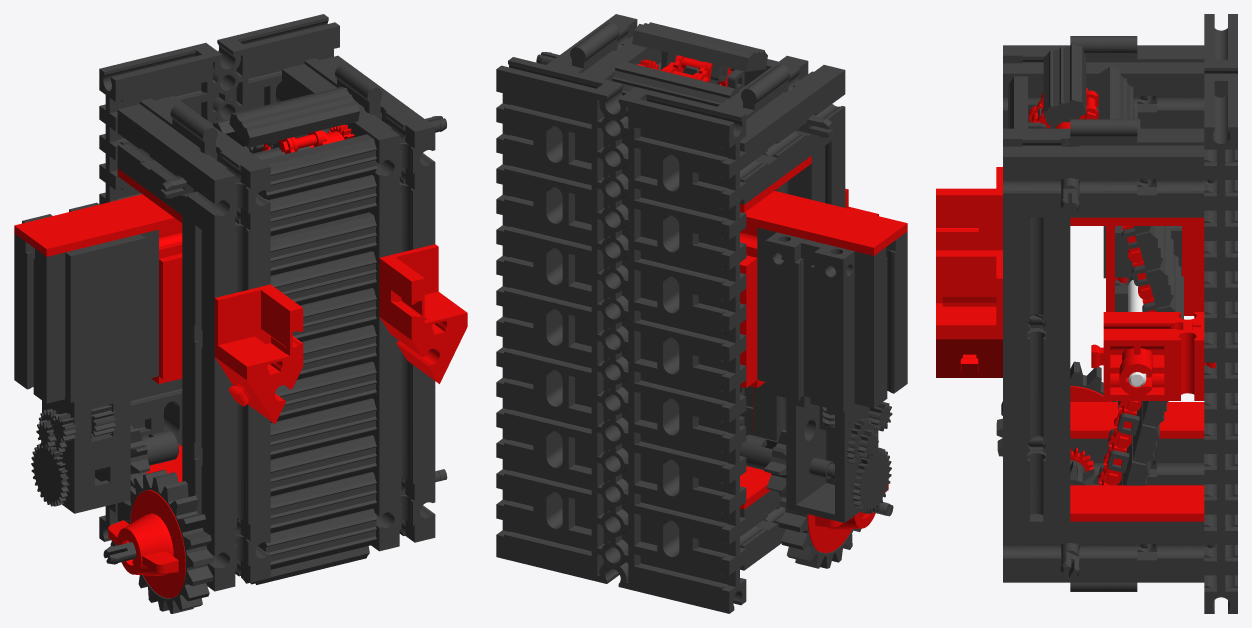
File: dopravnik1.obj
The picture shows the model from 3 angles, left to right: view 1: azimuth 30°, elevation 25°; view 2: azimuth 150°, elevation 25°; view 3: azimuth 270°, elevation 25°; orthographic projection. The views are drawn at different scales.
Parts seen in each view (by area): view 1: obj3, obj5, obj6, obj8, obj1, obj2, obj7, obj4; view 2: obj6, obj1, obj3, obj5, obj7, obj8, obj4, obj2; view 3: obj3, obj5, obj2, obj6, obj1, obj7, obj4, obj9, obj8, obj10.
Part boxes in pixels (left/top/right/bottom): obj3: left=14, top=58, right=446, bottom=551; obj5: left=31, top=96, right=447, bottom=569; obj6: left=99, top=14, right=376, bottom=546; obj8: left=123, top=134, right=376, bottom=613; obj1: left=36, top=17, right=376, bottom=584; obj2: left=126, top=131, right=467, bottom=564; obj7: left=14, top=130, right=328, bottom=482; obj4: left=108, top=124, right=354, bottom=598; obj6: left=496, top=57, right=746, bottom=613; obj1: left=502, top=22, right=893, bottom=605; obj3: left=536, top=14, right=907, bottom=570; obj5: left=612, top=51, right=892, bottom=522; obj7: left=667, top=66, right=907, bottom=509; obj8: left=683, top=60, right=861, bottom=568; obj4: left=637, top=59, right=888, bottom=552; obj2: left=661, top=55, right=878, bottom=517; obj3: left=1003, top=107, right=1215, bottom=582; obj5: left=1003, top=45, right=1204, bottom=579; obj2: left=936, top=90, right=1170, bottom=401; obj6: left=1070, top=14, right=1237, bottom=613; obj1: left=1043, top=28, right=1234, bottom=610; obj7: left=1029, top=93, right=1204, bottom=471; obj4: left=1070, top=87, right=1215, bottom=521; obj9: left=1070, top=217, right=1204, bottom=485; obj8: left=996, top=106, right=1183, bottom=484; obj10: left=1128, top=280, right=1146, bottom=386.
Size of the model in its own units: 100 by 121 by 67.5.
